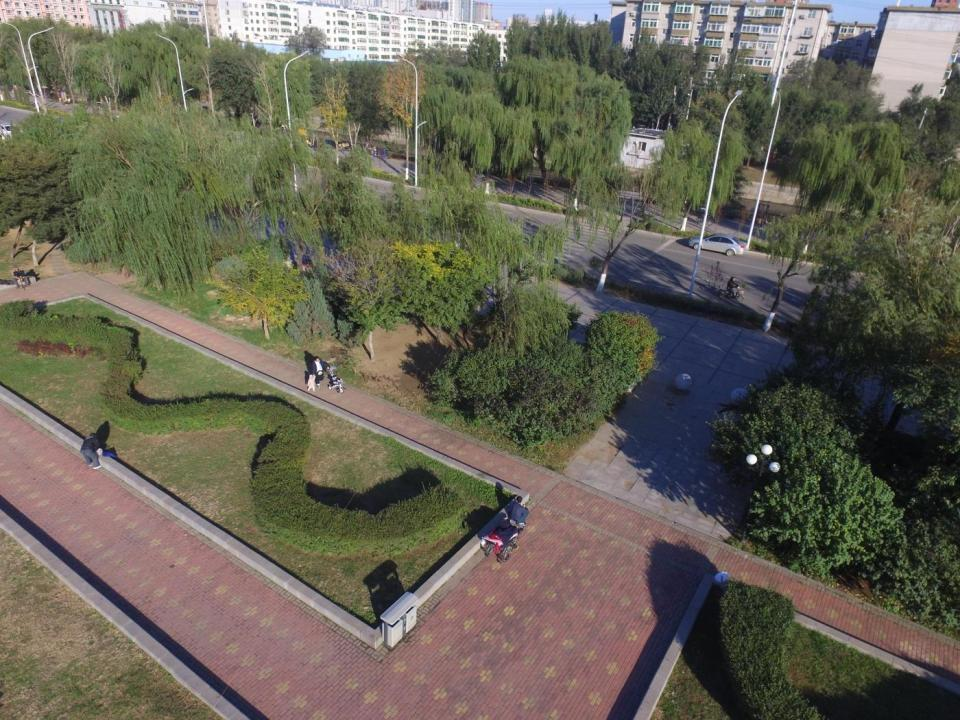car: (688, 230, 749, 260), (1, 119, 30, 149)
